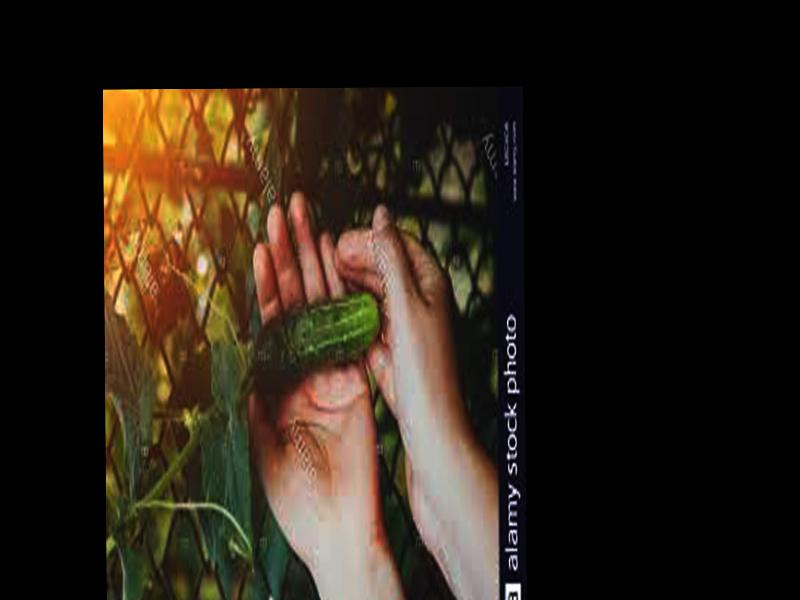Cucumber: (253, 289, 382, 391)
